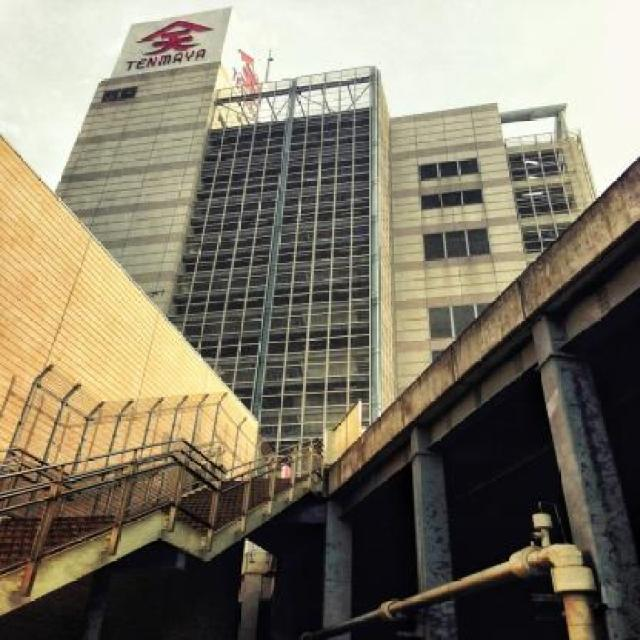stair: (0, 512, 137, 580), (157, 474, 311, 532)
